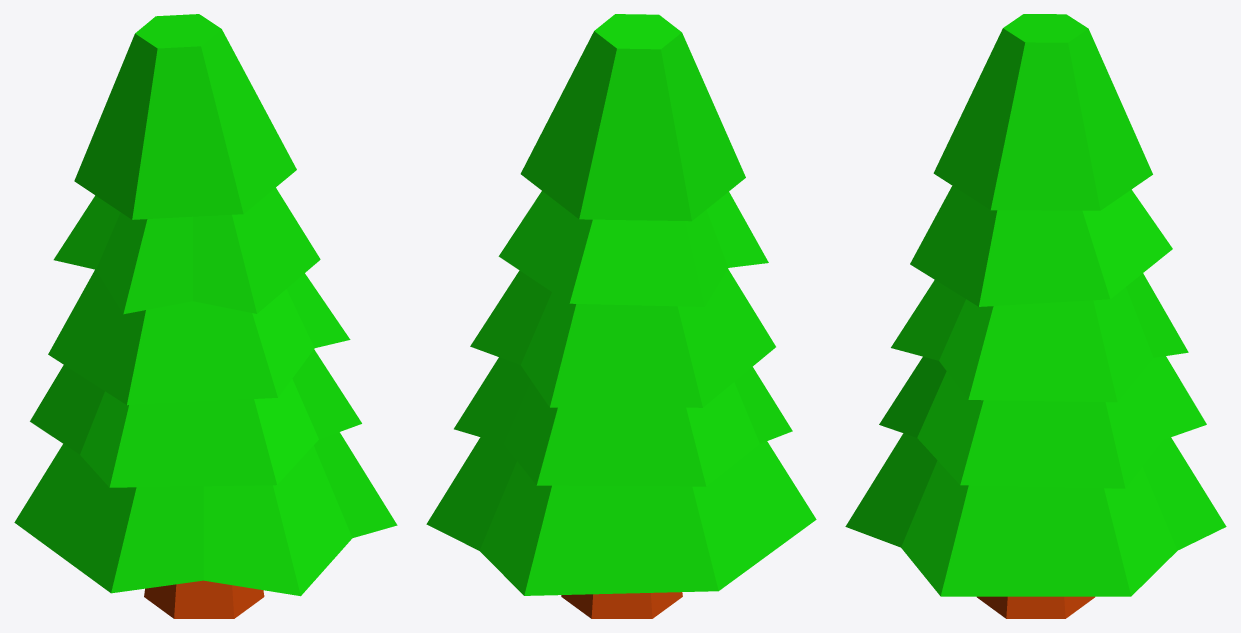
Rendered from Drzewov4.fbx.
3 renders of one model, left to right at view 1: azimuth 30°, elevation 25°; view 2: azimuth 150°, elevation 25°; view 3: azimuth 270°, elevation 25°, orthographic. The views are drawn at different scales.
Visible parts, largest first — view 1: Walec.001, Walec.005, Walec.002, Walec.003, Walec.004, Walec; view 2: Walec.001, Walec.005, Walec.003, Walec.002, Walec.004, Walec; view 3: Walec.001, Walec.005, Walec.002, Walec.003, Walec.004, Walec.
Boxes of the visible parts, left/top/right/bottom form: Walec.001: left=14, top=432, right=397, bottom=596; Walec.005: left=74, top=14, right=296, bottom=219; Walec.002: left=30, top=349, right=361, bottom=487; Walec.003: left=48, top=269, right=350, bottom=405; Walec.004: left=53, top=187, right=320, bottom=314; Walec: left=144, top=580, right=264, bottom=618; Walec.001: left=426, top=437, right=816, bottom=595; Walec.005: left=520, top=14, right=745, bottom=221; Walec.003: left=470, top=269, right=775, bottom=407; Walec.002: left=454, top=357, right=792, bottom=486; Walec.004: left=498, top=191, right=768, bottom=306; Walec: left=561, top=592, right=682, bottom=618; Walec.001: left=845, top=433, right=1226, bottom=596; Walec.005: left=933, top=14, right=1152, bottom=210; Walec.002: left=879, top=356, right=1206, bottom=488; Walec.003: left=891, top=273, right=1188, bottom=402; Walec.004: left=910, top=186, right=1172, bottom=306; Walec: left=977, top=596, right=1094, bottom=618.
Bounding box in the file's own units: 346 × 654 × 403.
